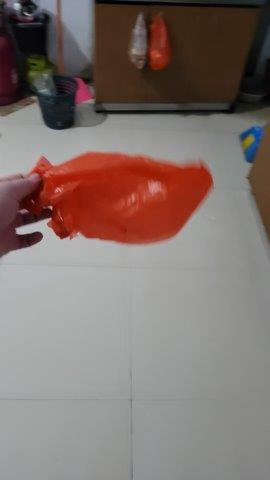plastik: (29, 153, 216, 248), (149, 10, 175, 75), (129, 18, 145, 67)
